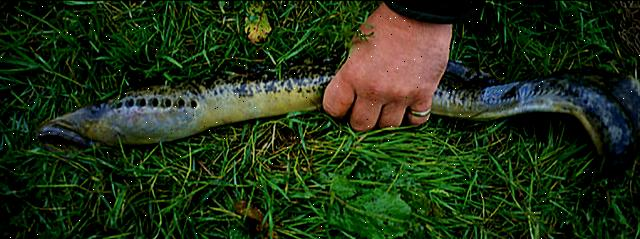Sirip Ekor: (576, 54, 640, 190)
